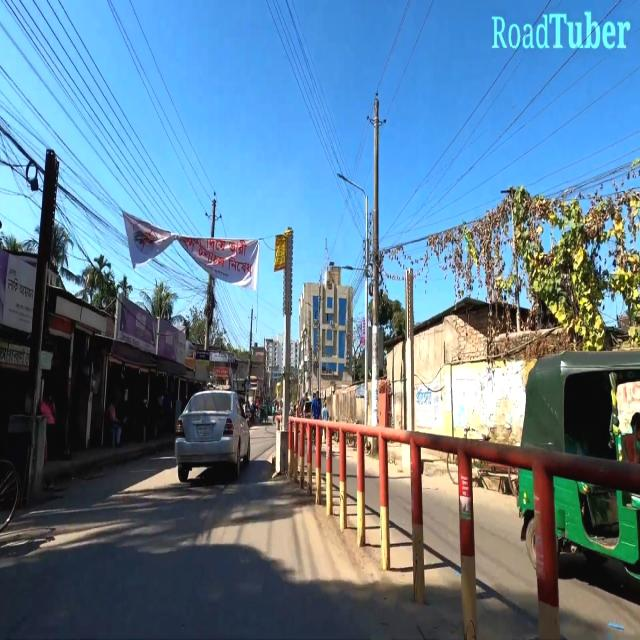white: (172, 384, 252, 482)
